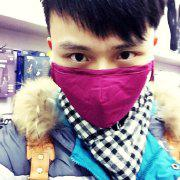OK: (56, 36, 151, 129)
